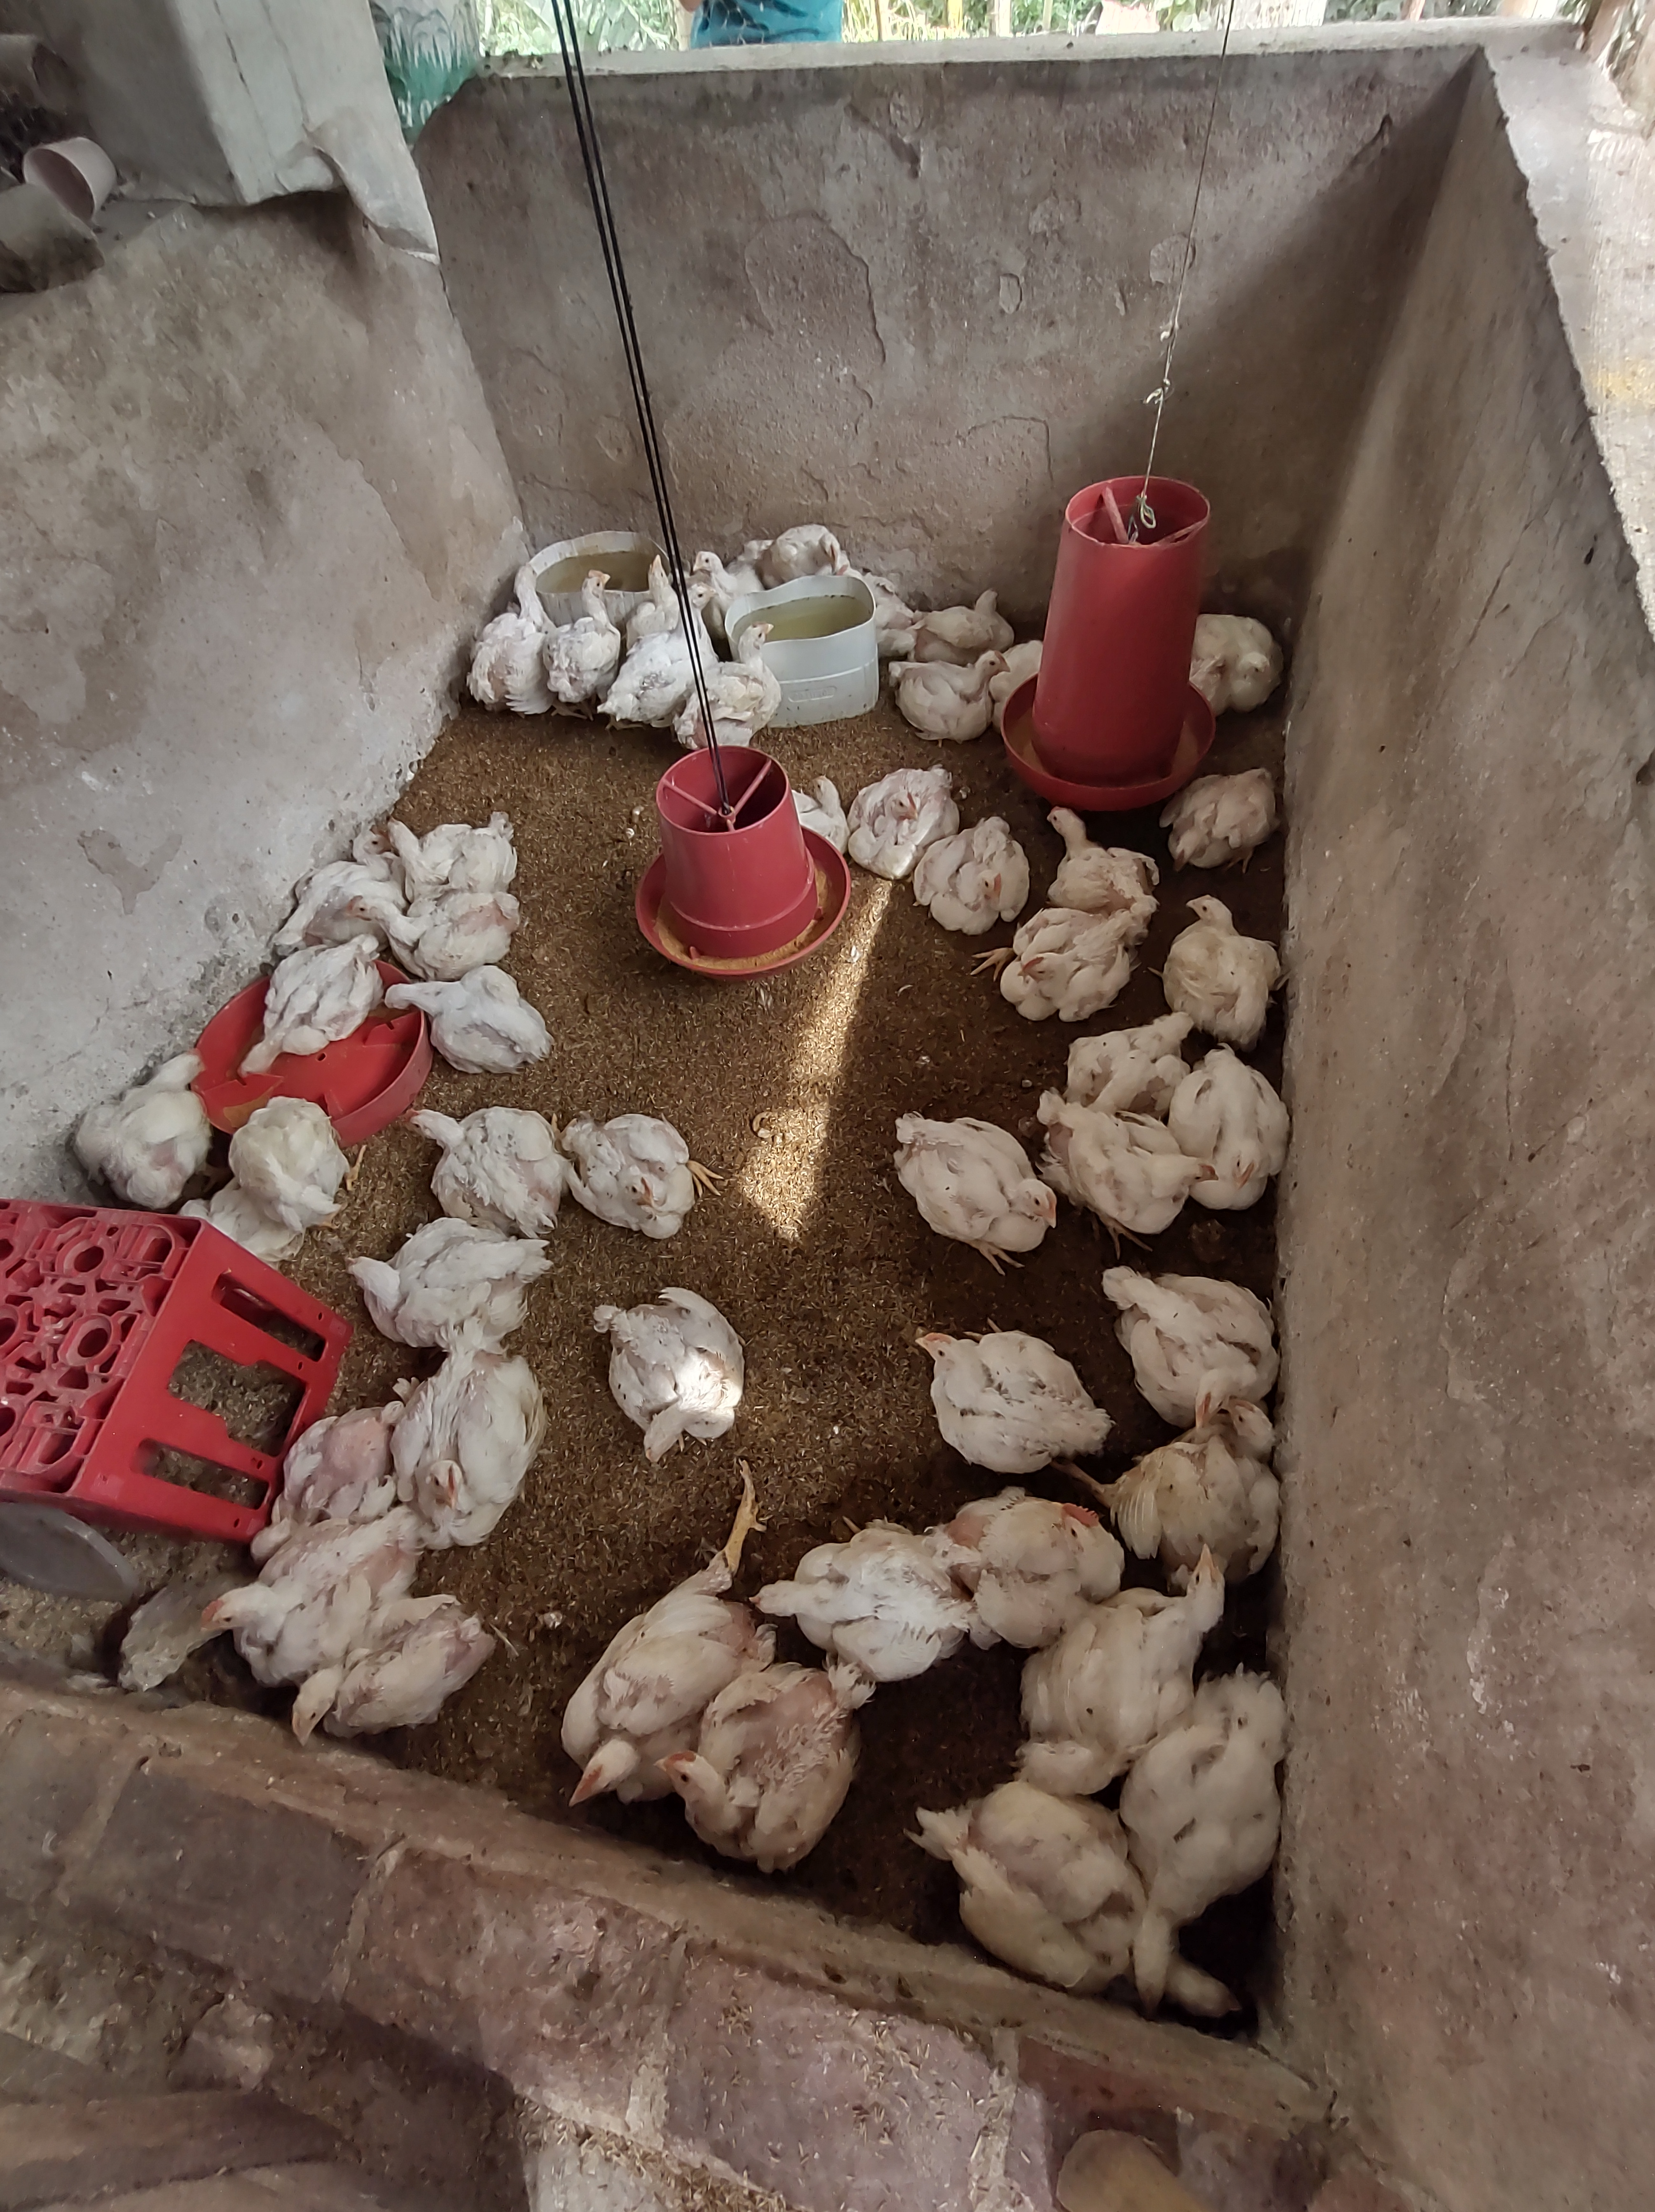Pollos: (1106, 1683, 1281, 2014), (1017, 1537, 1229, 1798), (654, 1669, 873, 1868), (758, 1523, 984, 1685), (285, 1602, 494, 1755), (909, 1327, 1114, 1464), (895, 1113, 1069, 1268), (250, 1400, 402, 1563), (403, 1346, 530, 1539), (1158, 1396, 1279, 1593), (1047, 1097, 1227, 1228), (351, 1226, 528, 1353), (1116, 1254, 1238, 1435), (619, 1292, 741, 1462), (83, 1045, 214, 1202), (238, 937, 379, 1082), (987, 1473, 1116, 1616), (570, 1115, 716, 1240), (1168, 892, 1292, 1040), (412, 1103, 551, 1229), (342, 880, 530, 974), (393, 981, 556, 1073), (238, 1097, 351, 1228), (1000, 913, 1139, 1016), (1168, 763, 1286, 876), (1080, 1005, 1206, 1109), (209, 1576, 334, 1673), (1052, 802, 1161, 909), (885, 649, 1015, 739), (1215, 1063, 1288, 1217), (558, 1678, 638, 1812), (932, 819, 1026, 927), (393, 805, 522, 876), (1191, 614, 1285, 704), (715, 612, 784, 710), (916, 583, 1007, 654), (664, 581, 728, 671), (869, 763, 932, 856), (760, 520, 847, 581), (490, 560, 548, 649), (329, 819, 398, 880), (572, 567, 622, 649), (801, 763, 847, 821), (638, 560, 673, 617), (692, 550, 730, 576)
